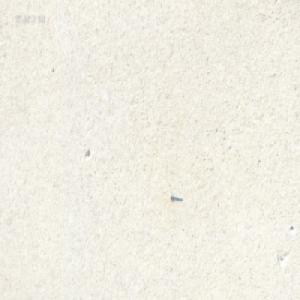Nail: (170, 193, 182, 201)
